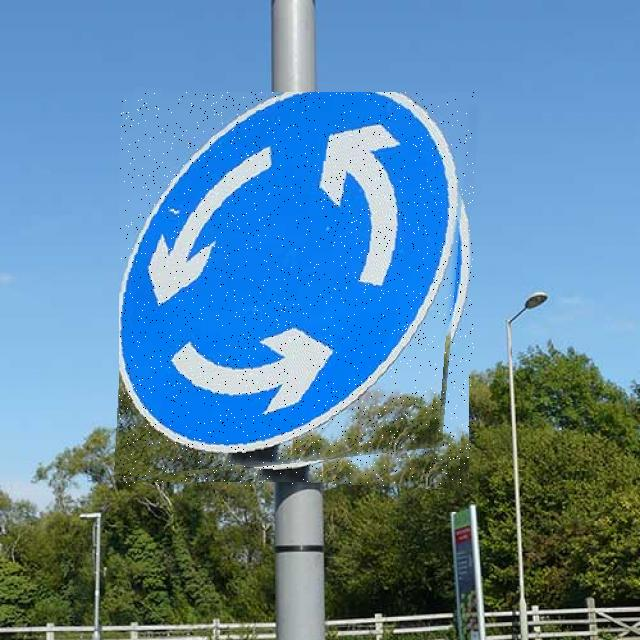roundabout: (119, 92, 474, 486)
